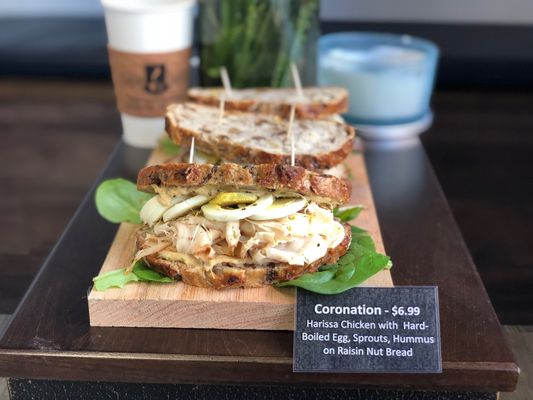pizza: (314, 31, 443, 143)
